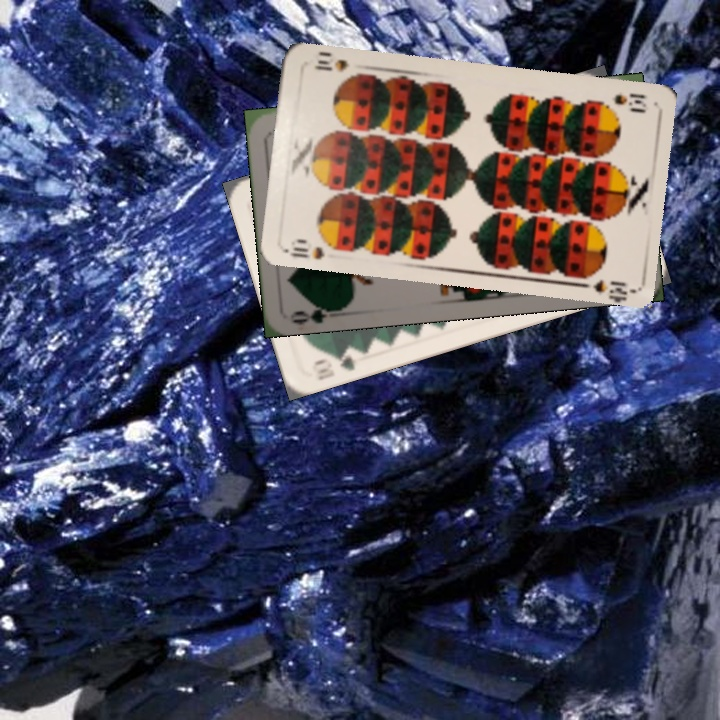G10: (308, 343, 362, 383)
GO: (288, 298, 347, 326)
S10: (283, 234, 342, 262), (609, 89, 649, 114)
